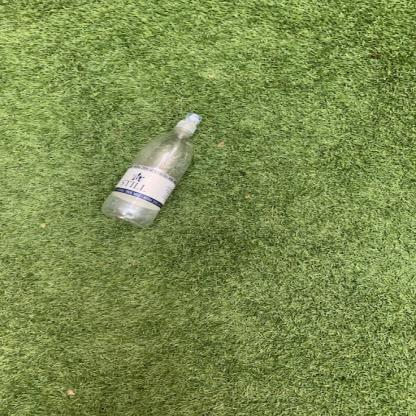trash: (99, 113, 205, 232)
